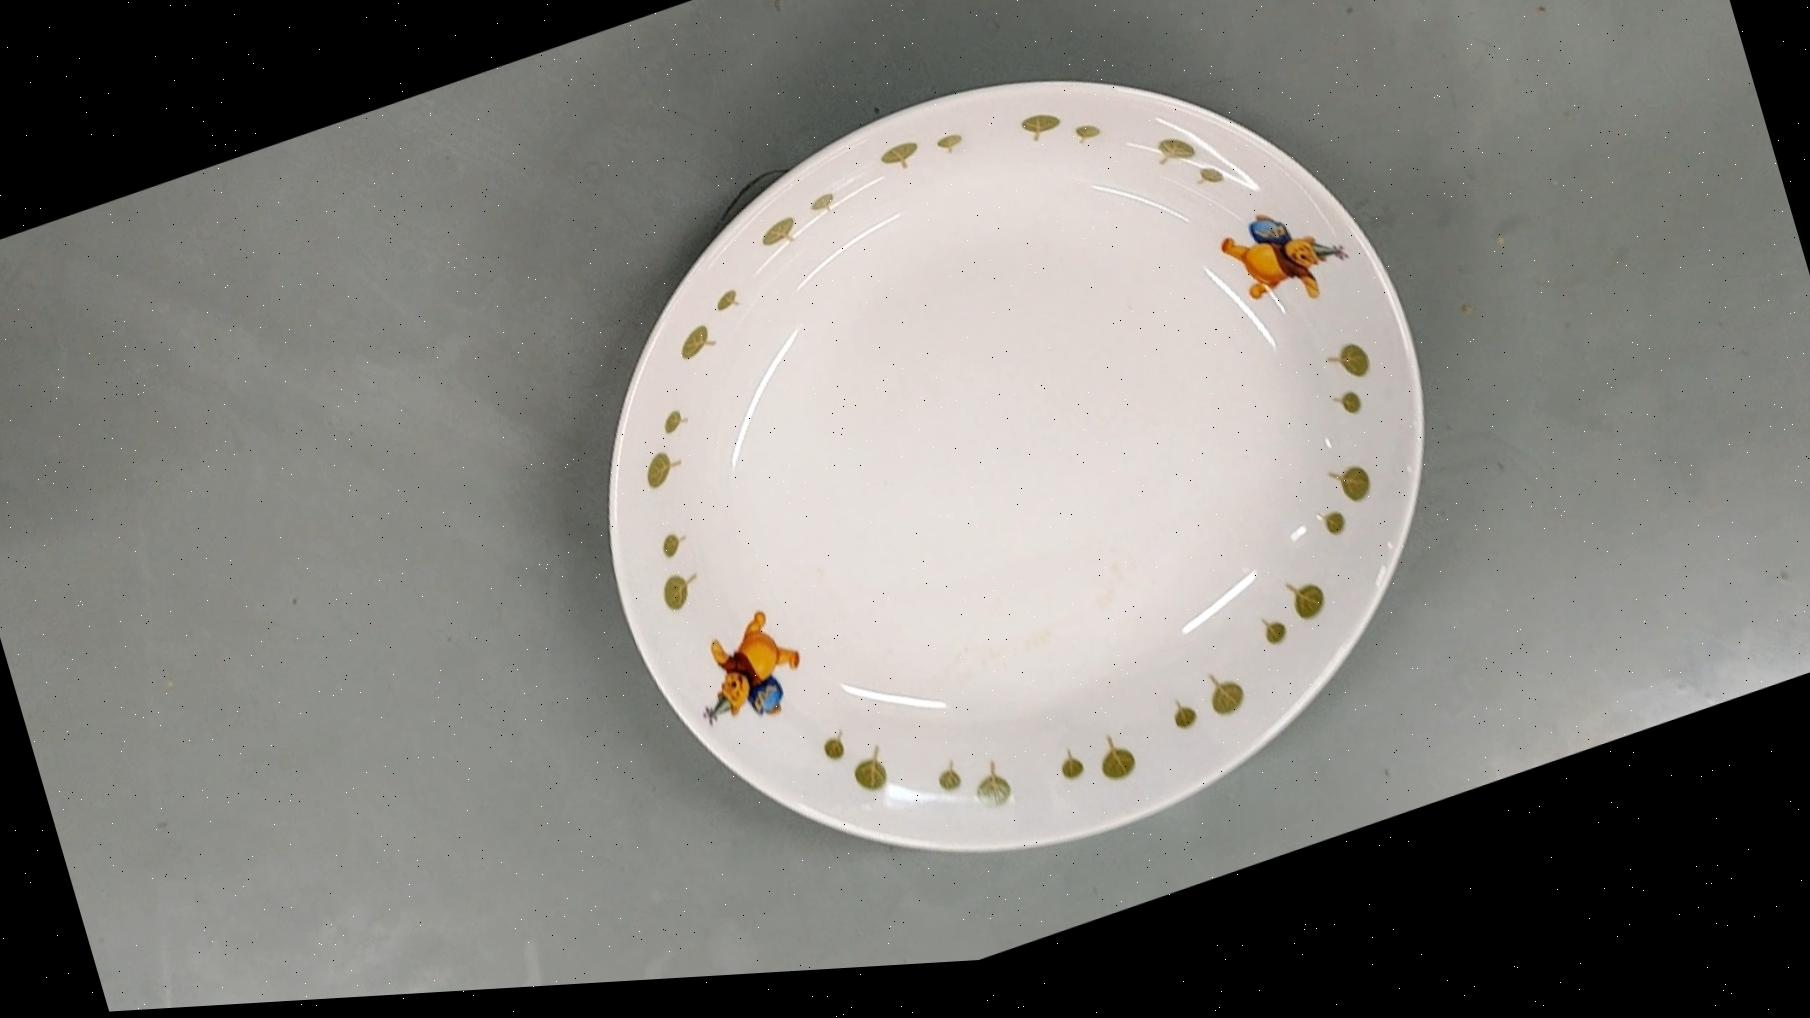plate: (513, 0, 1513, 978)
